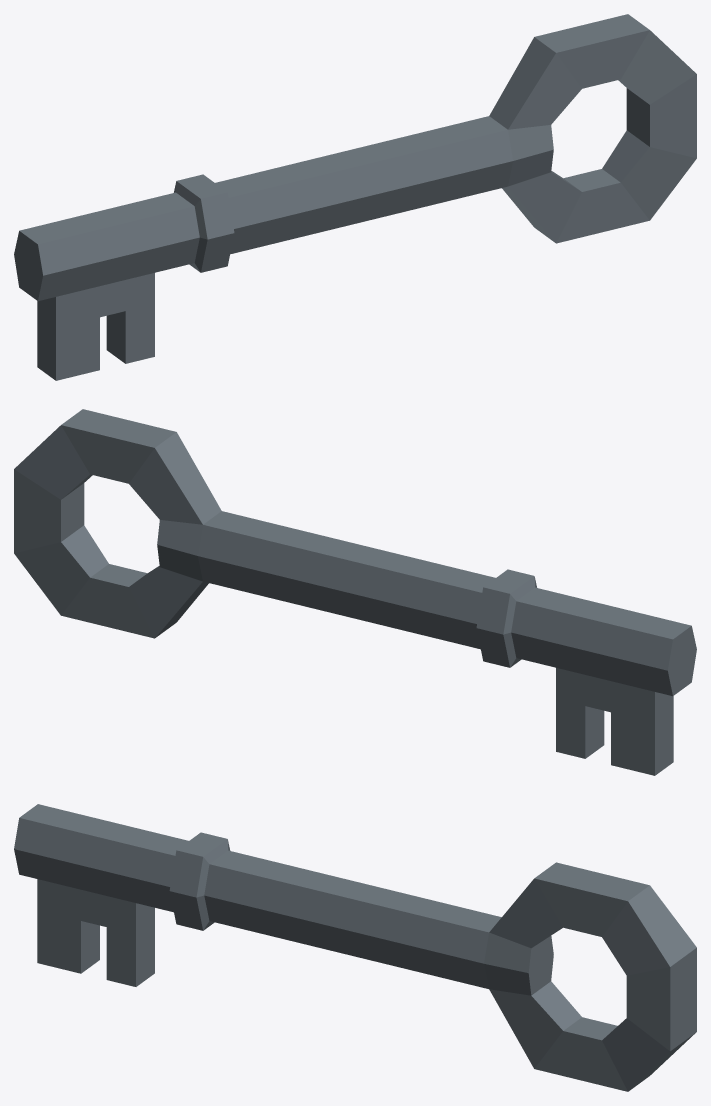
The model's file is samurai_SM_Gen_Prop_Key_01.gltf.
3 renders of one model, top to bottom at view 1: azimuth 30°, elevation 25°; view 2: azimuth 150°, elevation 25°; view 3: azimuth 330°, elevation 25°, orthographic.
Visible parts, largest first — view 1: SM_Gen_Prop_Key_01; view 2: SM_Gen_Prop_Key_01; view 3: SM_Gen_Prop_Key_01.
Boxes of the visible parts, x1=… form: SM_Gen_Prop_Key_01: x1=14, y1=14, x2=696, y2=380; SM_Gen_Prop_Key_01: x1=14, y1=409, x2=696, y2=775; SM_Gen_Prop_Key_01: x1=14, y1=804, x2=696, y2=1091.
Size of the model in its own units: 0.2348 by 0.0711 by 0.0236.
1 material, 1 textured.
